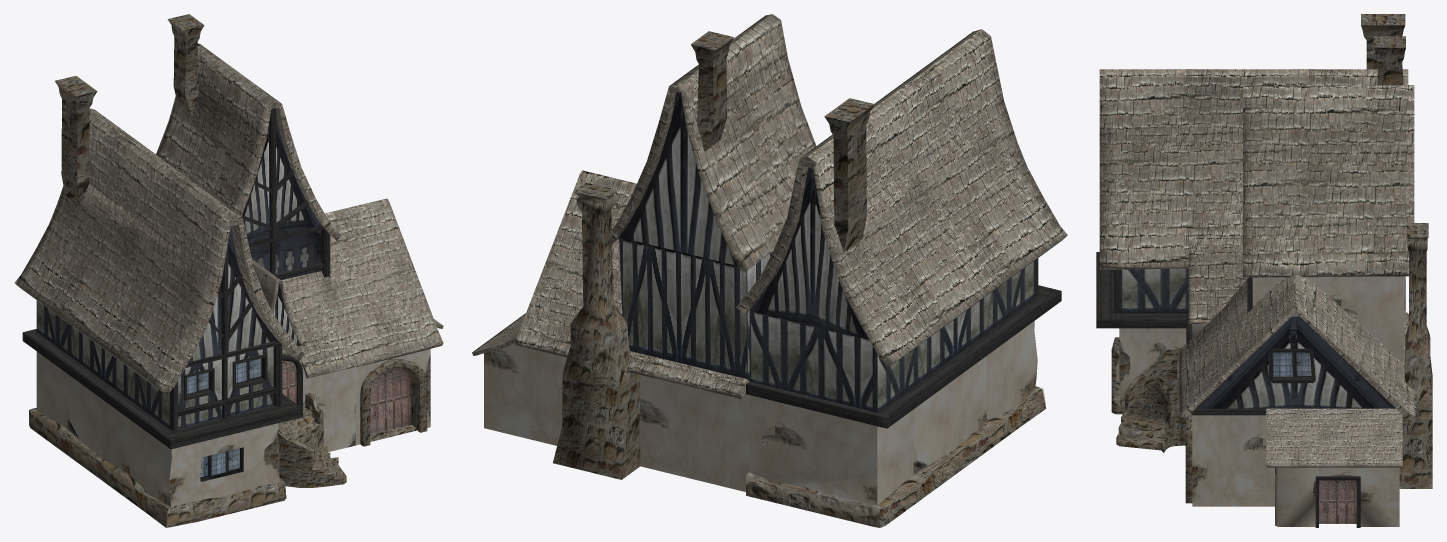
Rendered from medhouse11.fbx.
3 renders of one model, left to right at view 1: azimuth 30°, elevation 25°; view 2: azimuth 150°, elevation 25°; view 3: azimuth 270°, elevation 25°, orthographic. The views are drawn at different scales.
Visible parts, largest first — view 1: medhouse11; view 2: medhouse11; view 3: medhouse11.
Boxes of the visible parts, bbox=[...] form: medhouse11: bbox=[14, 14, 443, 527]; medhouse11: bbox=[472, 14, 1067, 527]; medhouse11: bbox=[1096, 14, 1432, 527].
Bounding box in the file's own units: 1585 × 1562 × 1225.
